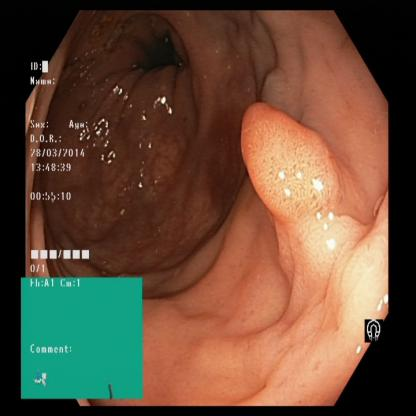Labels: (23, 276, 145, 400), (29, 58, 97, 278), (358, 304, 395, 359)
Polyps: (236, 94, 350, 232)
